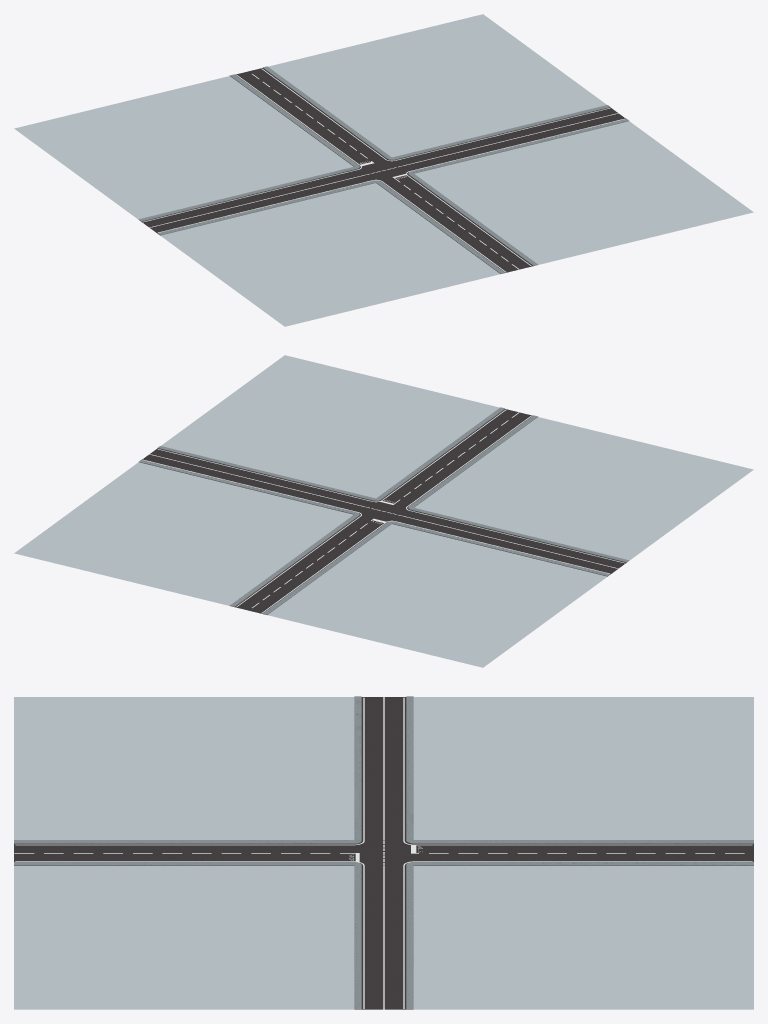
File: stop.dae
3 renders of one model, top to bottom at view 1: azimuth 30°, elevation 25°; view 2: azimuth 150°, elevation 25°; view 3: azimuth 270°, elevation 25°, orthographic. The views are drawn at different scales.
Parts seen in each view (by area): view 1: SketchUp_041, SketchUp_040, SketchUp_042, SketchUp_043, SketchUp_029, SketchUp_001, SketchUp_002, SketchUp_003, SketchUp; view 2: SketchUp_042, SketchUp_043, SketchUp_041, SketchUp_040, SketchUp_029, SketchUp, SketchUp_002, SketchUp_003, SketchUp_001; view 3: SketchUp_040, SketchUp_043, SketchUp_041, SketchUp_042, SketchUp_029, SketchUp, SketchUp_001, SketchUp_002, SketchUp_003, SketchUp_027, SketchUp_028, SketchUp_015 (+1 smaller).
Boxes of the visible parts, left/top/right/bottom form: SketchUp_041: left=160, top=183, right=500, bottom=326; SketchUp_040: left=414, top=121, right=753, bottom=264; SketchUp_042: left=14, top=76, right=353, bottom=219; SketchUp_043: left=268, top=14, right=606, bottom=157; SketchUp_029: left=141, top=68, right=625, bottom=272; SketchUp_001: left=262, top=66, right=609, bottom=160; SketchUp_002: left=157, top=180, right=505, bottom=273; SketchUp_003: left=138, top=74, right=359, bottom=221; SketchUp: left=408, top=118, right=628, bottom=265; SketchUp_042: left=267, top=524, right=607, bottom=667; SketchUp_043: left=14, top=462, right=353, bottom=605; SketchUp_041: left=414, top=417, right=753, bottom=560; SketchUp_040: left=161, top=355, right=499, bottom=498; SketchUp_029: left=142, top=409, right=626, bottom=613; SketchUp: left=158, top=407, right=505, bottom=501; SketchUp_002: left=408, top=415, right=629, bottom=562; SketchUp_003: left=262, top=521, right=610, bottom=614; SketchUp_001: left=139, top=459, right=359, bottom=606; SketchUp_040: left=14, top=866, right=354, bottom=1009; SketchUp_043: left=413, top=866, right=753, bottom=1009; SketchUp_041: left=14, top=697, right=354, bottom=839; SketchUp_042: left=413, top=697, right=753, bottom=839; SketchUp_029: left=14, top=697, right=753, bottom=1009; SketchUp: left=14, top=862, right=361, bottom=1009; SketchUp_001: left=406, top=862, right=753, bottom=1009; SketchUp_002: left=14, top=696, right=361, bottom=843; SketchUp_003: left=406, top=696, right=753, bottom=843; SketchUp_027: left=403, top=697, right=752, bottom=853; SketchUp_028: left=15, top=697, right=364, bottom=845; SketchUp_015: left=15, top=853, right=364, bottom=1008.
Bounding box in the file's own units: 100 × 100 × 0.1.
5 materials, 2 textured.
